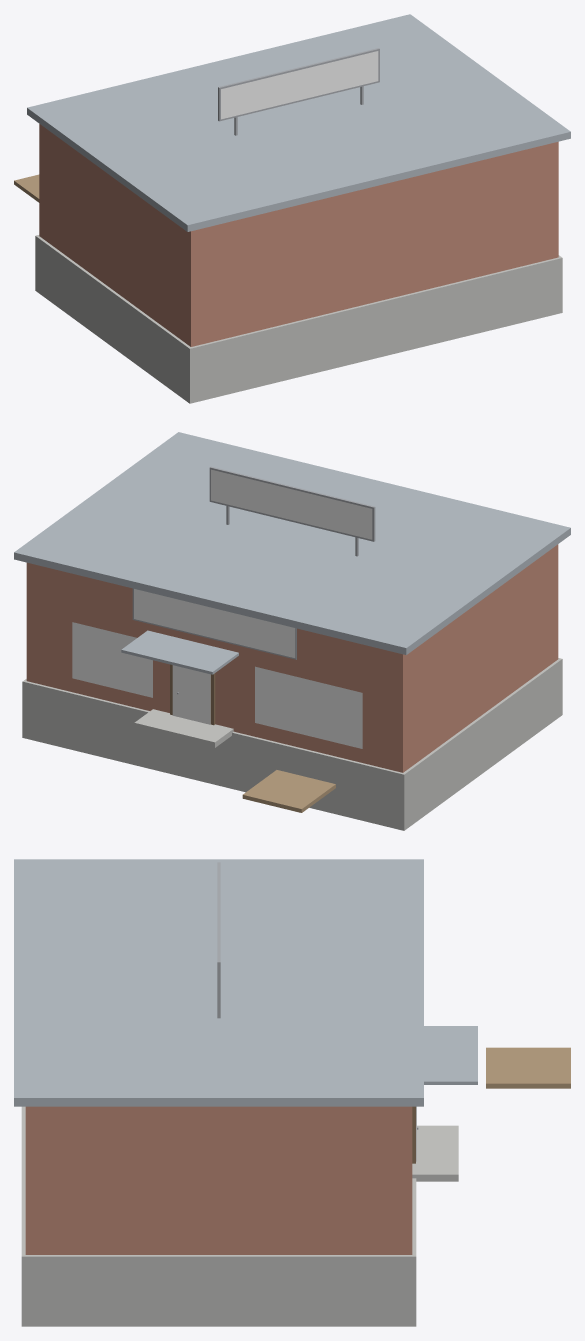
The model's file is parts_store.glb.
The picture shows the model from 3 angles, top to bottom: view 1: azimuth 30°, elevation 25°; view 2: azimuth 150°, elevation 25°; view 3: azimuth 270°, elevation 25°; orthographic projection. The views are drawn at different scales.
Parts seen in each view (by area): view 1: parts_store; view 2: parts_store; view 3: parts_store.
Boxes of the visible parts, box(x1,y1,x2,y2) form: parts_store: box(14, 14, 570, 403); parts_store: box(14, 432, 570, 830); parts_store: box(14, 859, 570, 1326).
Size of what is drawn, in the model's own units: 14.6 by 8.51 by 14.4.
